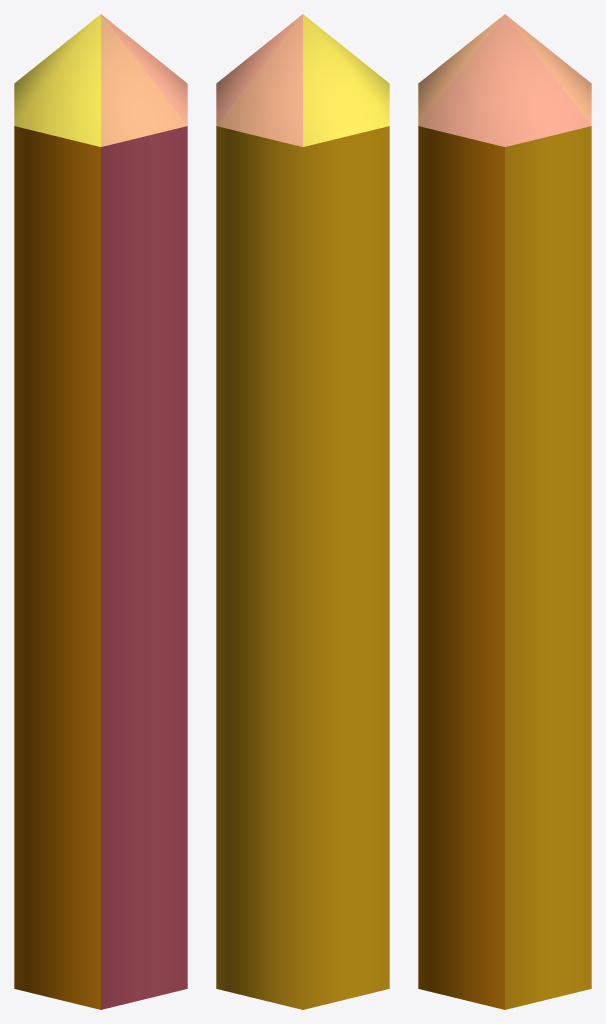
The model's file is Solo.RocketMesh.YellowComet.glb.
3 views of the same model, side by side, from view 1: azimuth 30°, elevation 25°; view 2: azimuth 150°, elevation 25°; view 3: azimuth 270°, elevation 25° (orthographic).
Parts seen in each view (by area): view 1: Solo.RocketMesh.YellowComet; view 2: Solo.RocketMesh.YellowComet; view 3: Solo.RocketMesh.YellowComet.
Boxes of the visible parts, x1,y1,x2,y2 form: Solo.RocketMesh.YellowComet: (14,14,187,1009); Solo.RocketMesh.YellowComet: (216,14,389,1009); Solo.RocketMesh.YellowComet: (418,14,591,1009).
Size of the model in its own units: 0.2 by 1.05 by 0.1732.
1 material, 1 textured.
